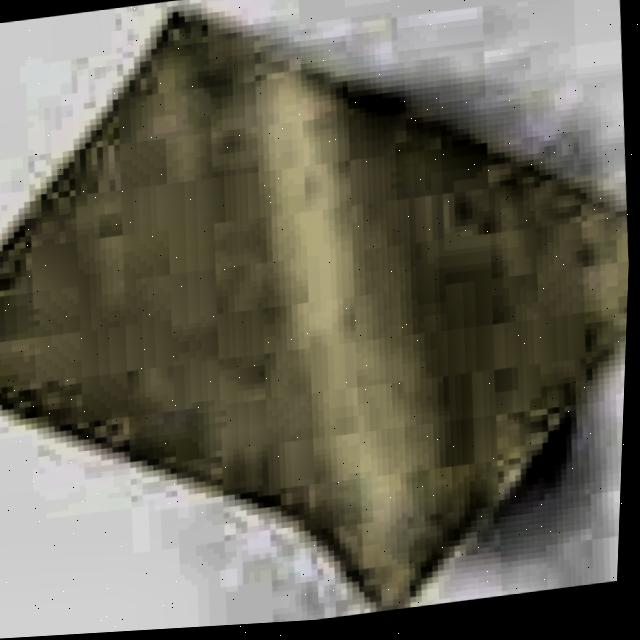paper: (0, 0, 631, 616)
